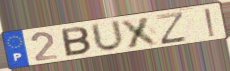2: (29, 31, 61, 63)
B: (60, 25, 93, 58)
I: (203, 7, 218, 38)
U: (89, 18, 127, 53)
X: (118, 15, 162, 50)
Z: (154, 10, 190, 46)
